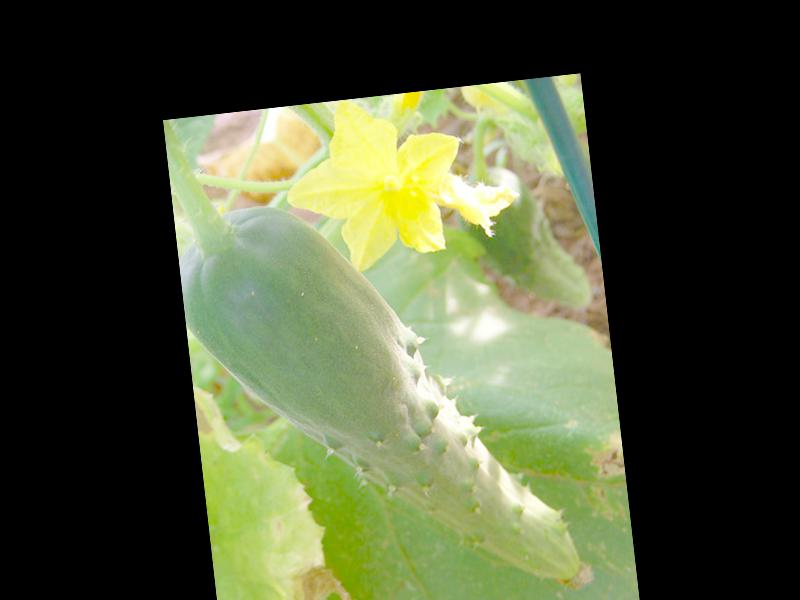Cucumber: (175, 174, 595, 600)
